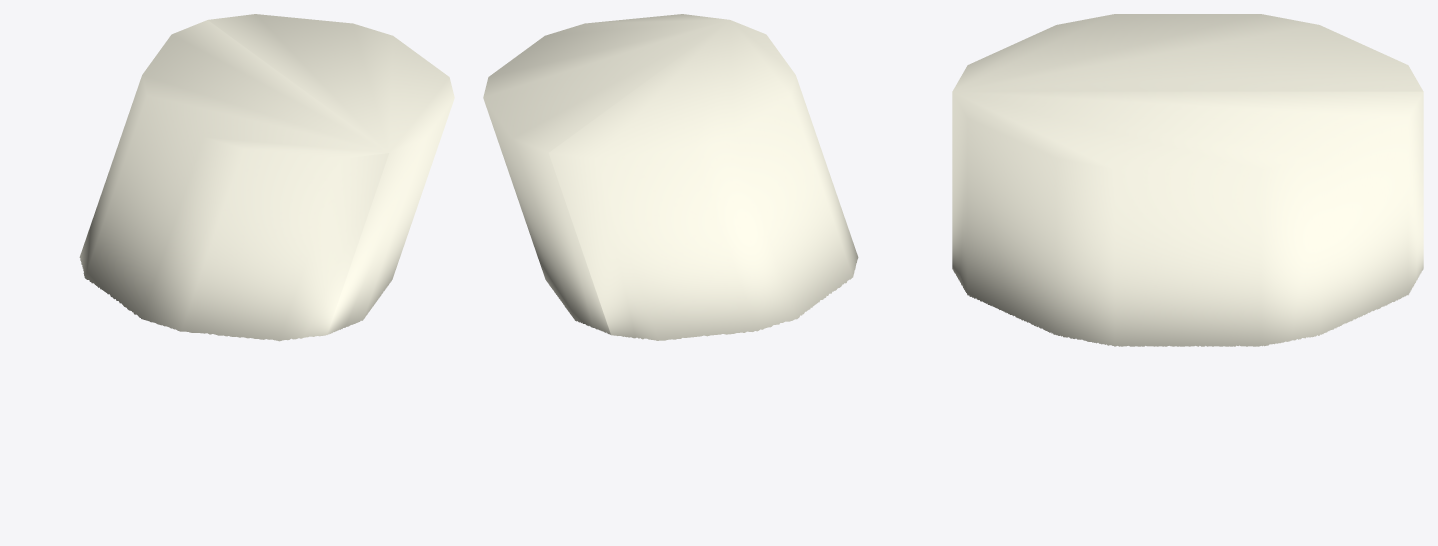
File: LBthicc.fbx
3 views of the same model, side by side, from view 1: azimuth 30°, elevation 25°; view 2: azimuth 150°, elevation 25°; view 3: azimuth 270°, elevation 25° (orthographic). The views are drawn at different scales.
Visible parts, largest first — view 1: pCube68; view 2: pCube68; view 3: pCube68.
Boxes of the visible parts, left/top/right/bottom form: pCube68: left=79, top=14, right=454, bottom=341; pCube68: left=483, top=14, right=858, bottom=340; pCube68: left=952, top=14, right=1423, bottom=346.
Bounding box in the file's own units: 20.03 × 17.51 × 16.87.
1 material, 1 textured.
